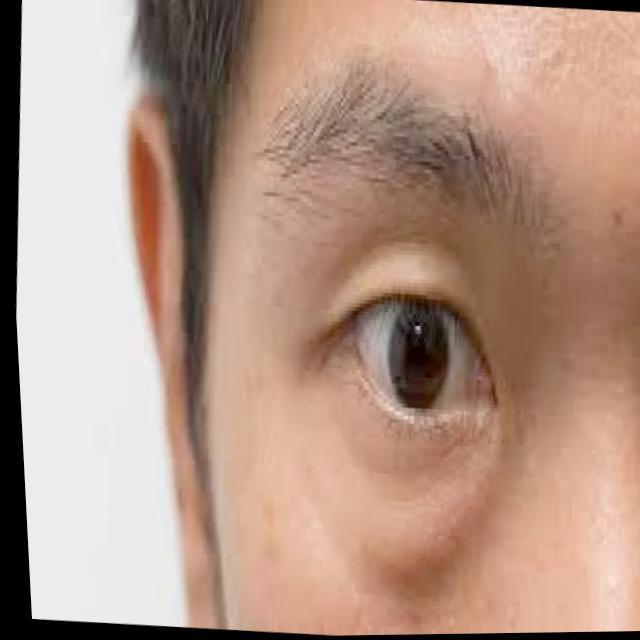puffy_eyes: (350, 478, 481, 565)
